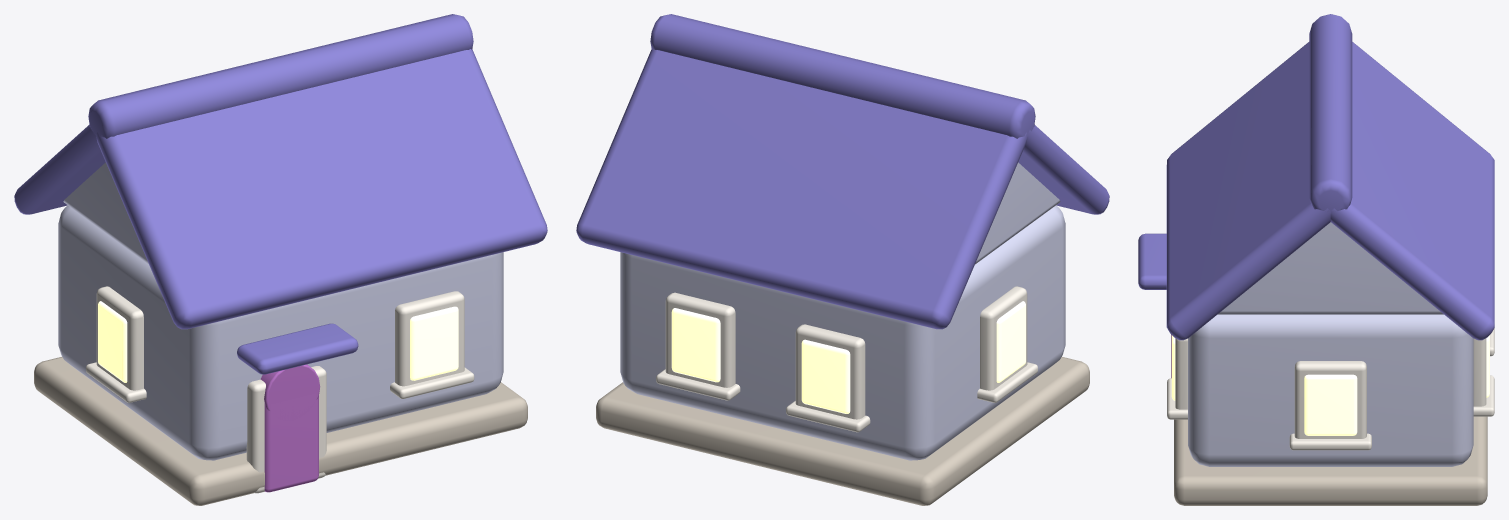
3 views of the same model, side by side, from view 1: azimuth 30°, elevation 25°; view 2: azimuth 150°, elevation 25°; view 3: azimuth 270°, elevation 25° (orthographic). The views are drawn at different scales.
Visible parts, largest first — view 1: Cube; view 2: Cube; view 3: Cube.
Part boxes in pixels (x1=…): Cube: x1=14, y1=14, x2=547, y2=505; Cube: x1=576, y1=14, x2=1109, y2=505; Cube: x1=1138, y1=14, x2=1494, y2=505.
Bounding box in the file's own units: 0.57 × 0.5175 × 0.4999.
